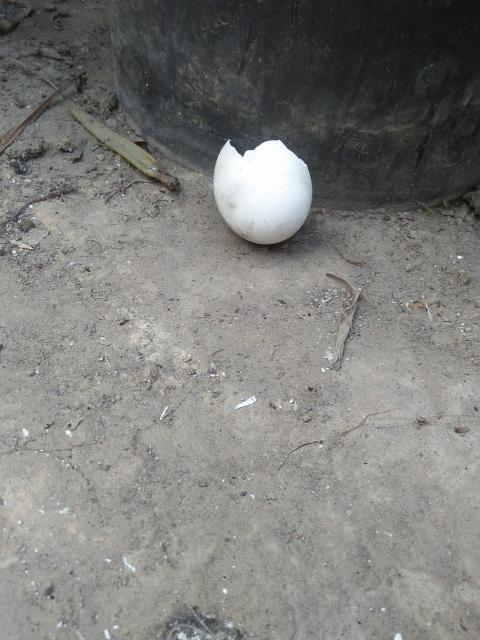Roto: (212, 137, 313, 246)
